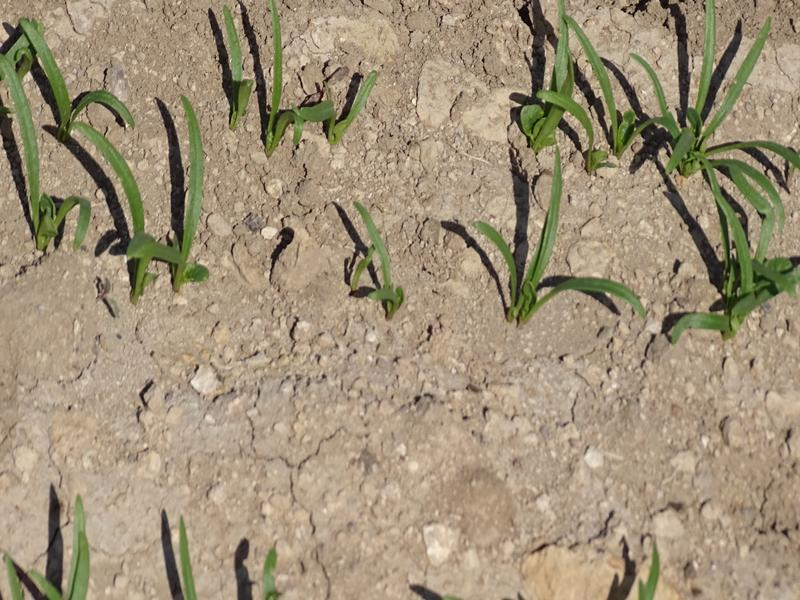Espinaca: (2, 18, 204, 282), (509, 1, 800, 162), (476, 168, 633, 320), (221, 7, 369, 139), (672, 185, 795, 339), (3, 499, 92, 600), (350, 199, 405, 318), (173, 516, 203, 599), (264, 546, 284, 600)
